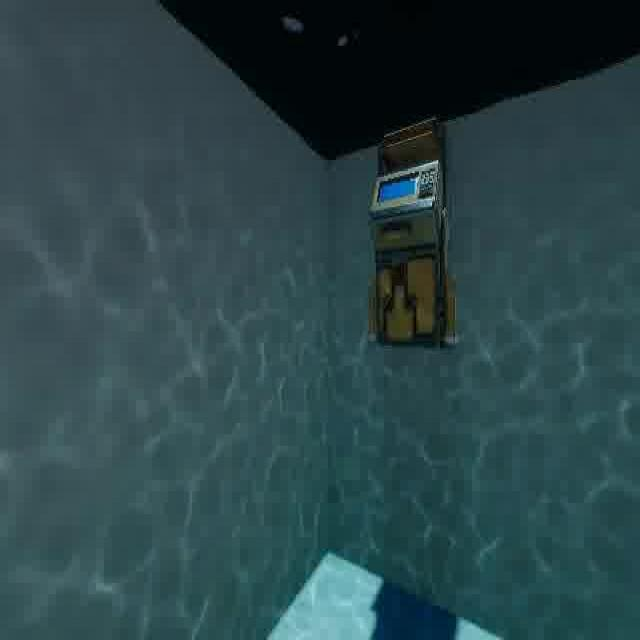Control Panel: (364, 115, 465, 353)
